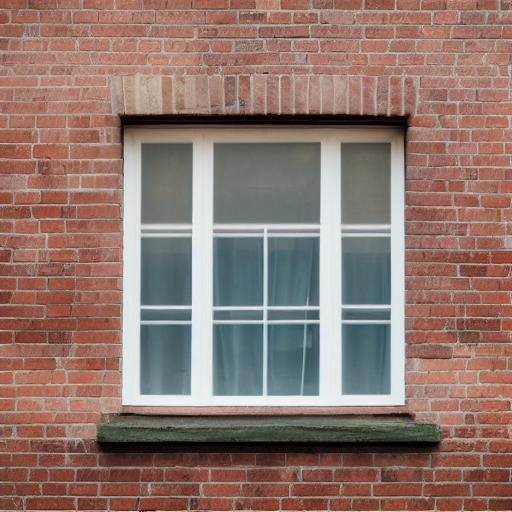Window: (95, 77, 443, 448)
